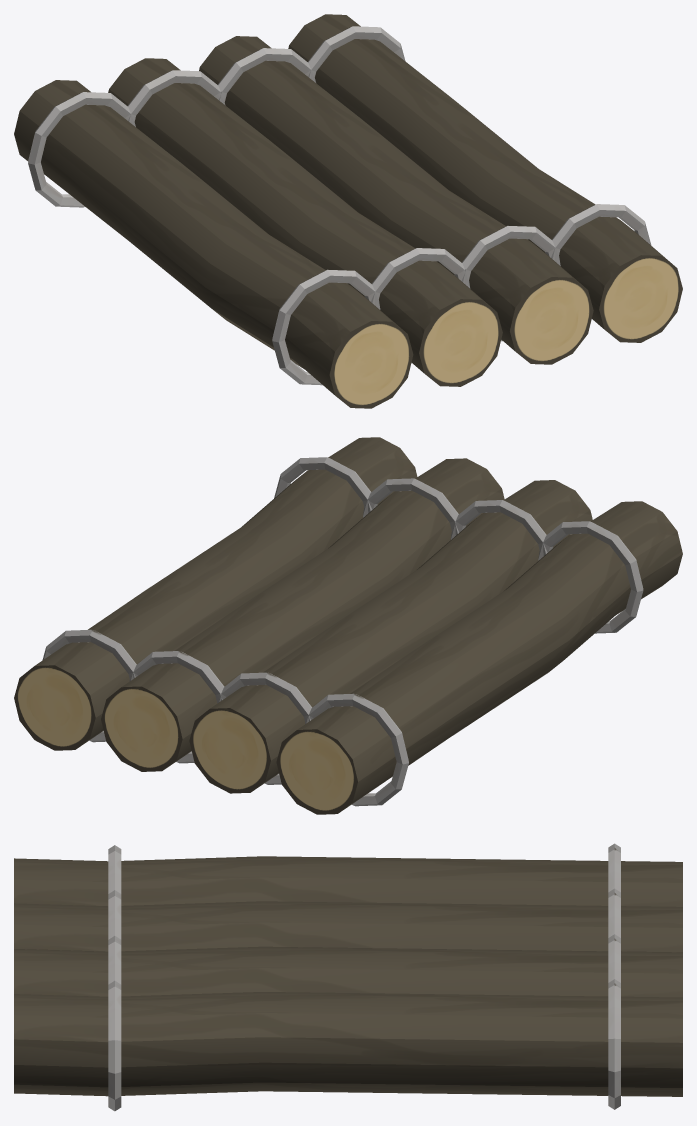
Rendered from raft0.fbx.
3 views of the same model, one above another, from view 1: azimuth 30°, elevation 25°; view 2: azimuth 150°, elevation 25°; view 3: azimuth 270°, elevation 25° (orthographic). The views are drawn at different scales.
Visible parts, largest first — view 1: polySurface27; view 2: polySurface27; view 3: polySurface27.
Boxes of the visible parts, x1,y1,x2,y2 form: polySurface27: (14, 14, 682, 408); polySurface27: (14, 437, 682, 814); polySurface27: (14, 843, 682, 1111).
Bounding box in the file's own units: 3.31 × 0.9636 × 4.88.
1 material, 1 textured.
